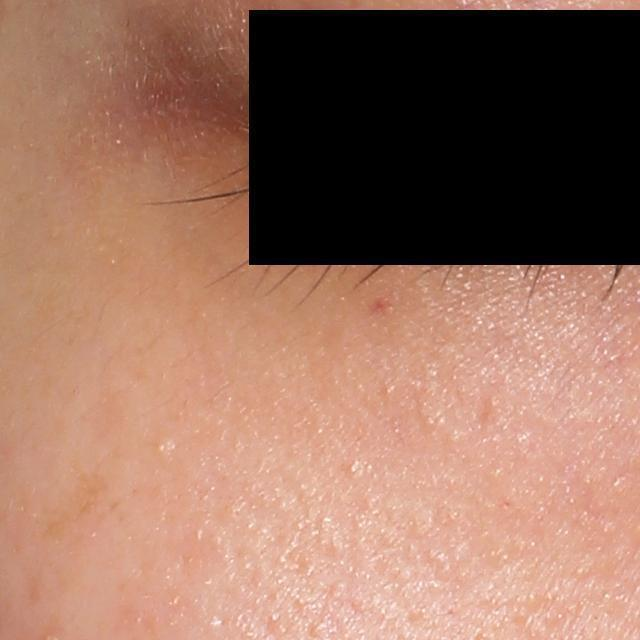comedo: (346, 461, 361, 476)
